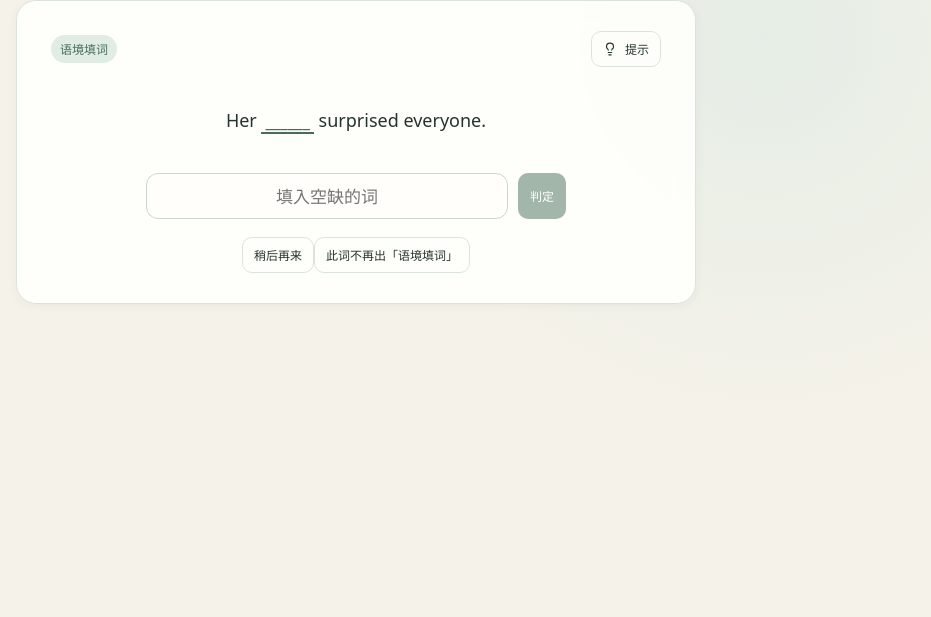
Scenario: 挖空卡 › 句子含空位，翻面后空位处显示答案
Expected: the text with class "cloze-blank" reads "______", [266,108,310,132]
Type "resilience" into the field with placeholder "填入空缺的词" at x=327, y=196, box [146,173,508,219]
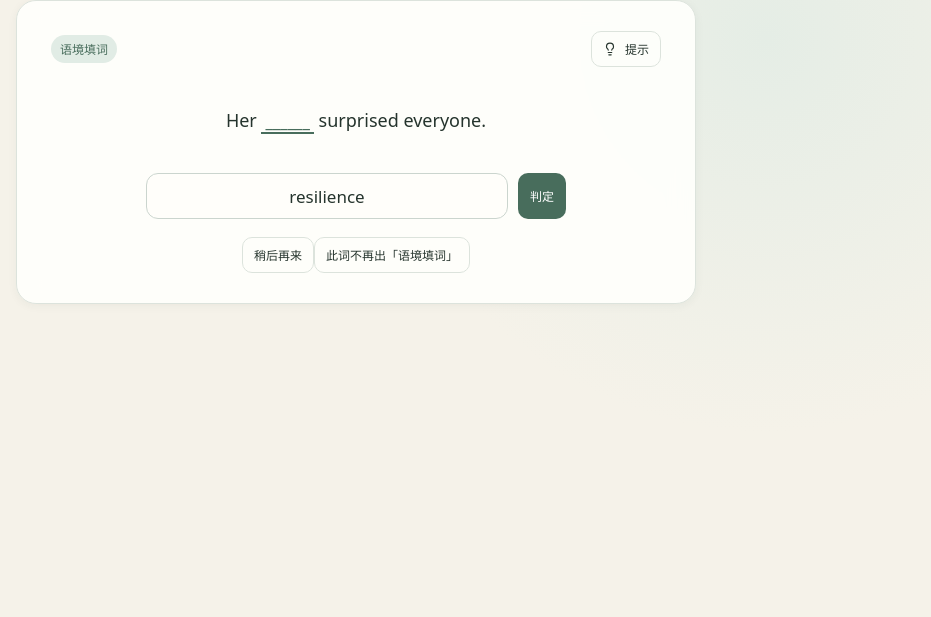
Submit the form, box [146,173,566,219]
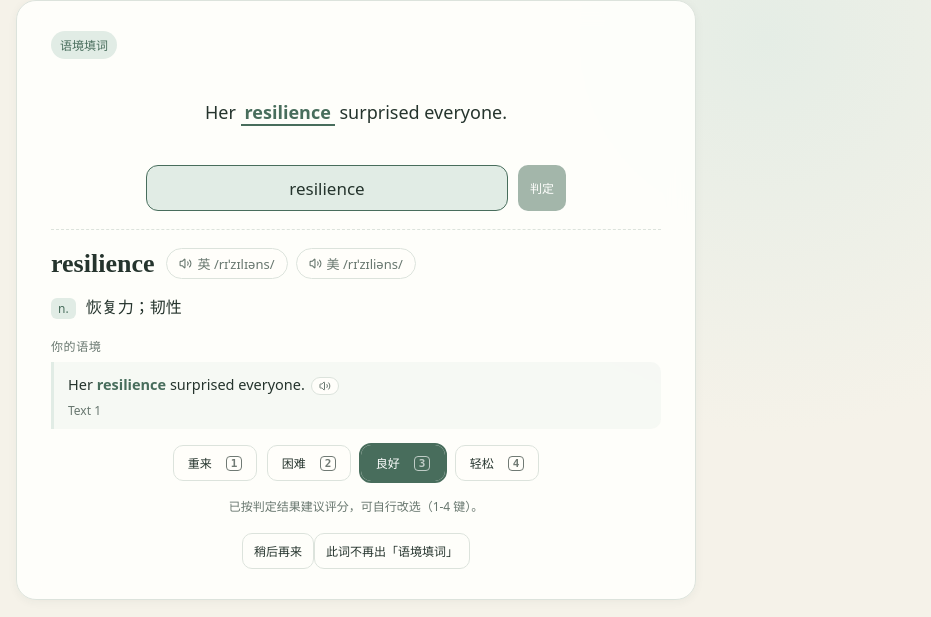
Expected: the text with class "cloze-blank" reads "resilience", [245,100,331,124]
